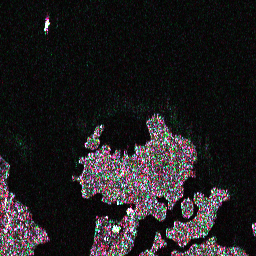ship: (41, 16, 53, 33)
